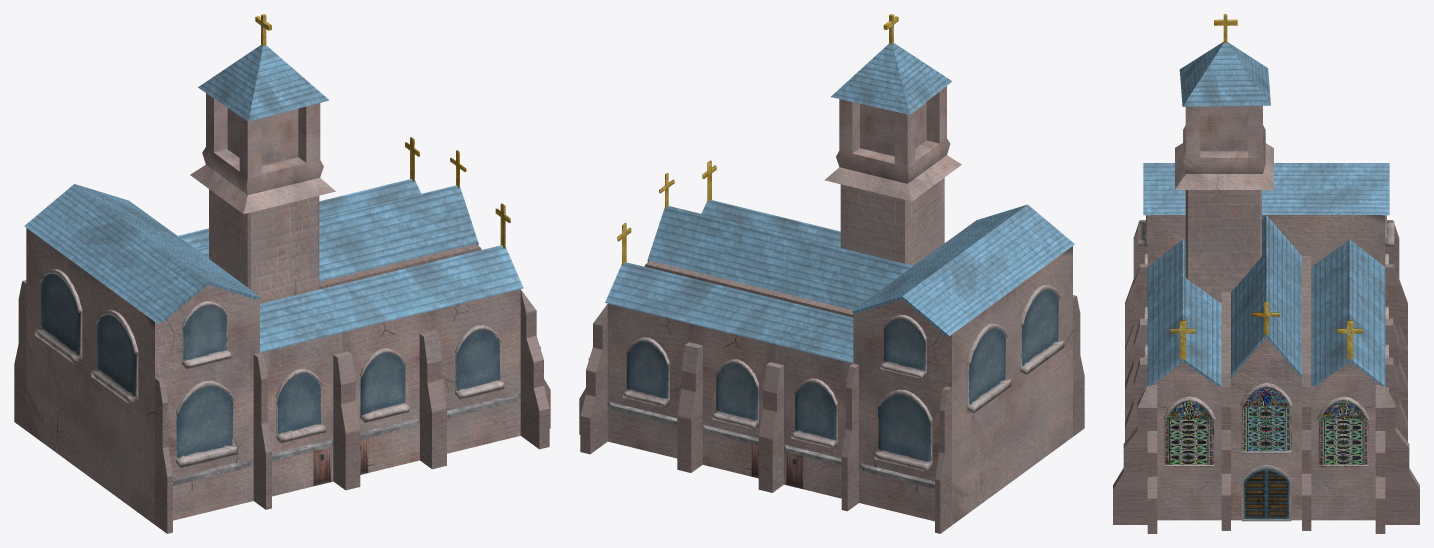
File: church_c.fbx
3 renders of one model, left to right at view 1: azimuth 30°, elevation 25°; view 2: azimuth 150°, elevation 25°; view 3: azimuth 270°, elevation 25°, orthographic. The views are drawn at different scales.
Parts seen in each view (by area): view 1: polySurface45; view 2: polySurface45; view 3: polySurface45.
Part boxes in pixels (box(x1,y1,x2,y2)): polySurface45: box(14, 14, 550, 533); polySurface45: box(579, 14, 1084, 533); polySurface45: box(1113, 14, 1419, 533).
Size of the model in its own units: 673 by 706 by 480.
